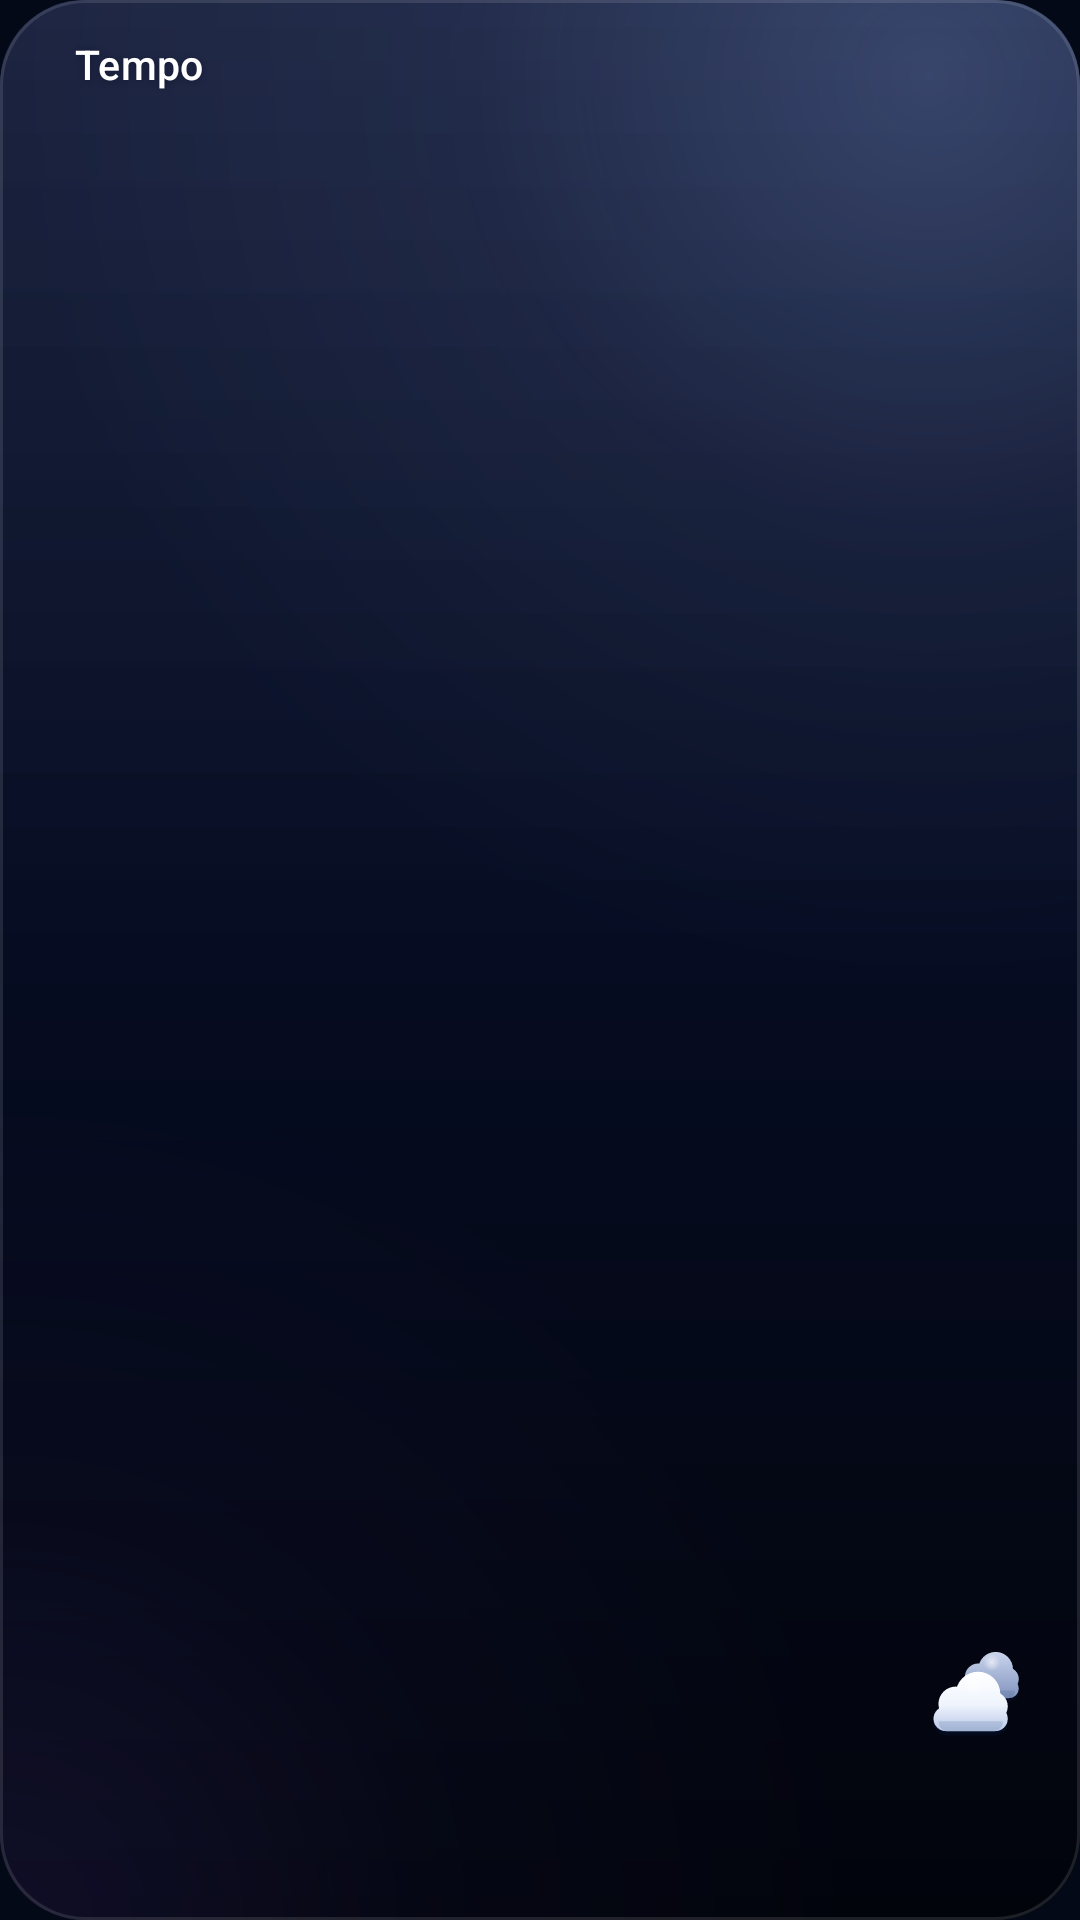

Icon click points for this 1080x1920 phone screenshot, format [x,y]:
Ícone da condição do tempo: [976,1692]
